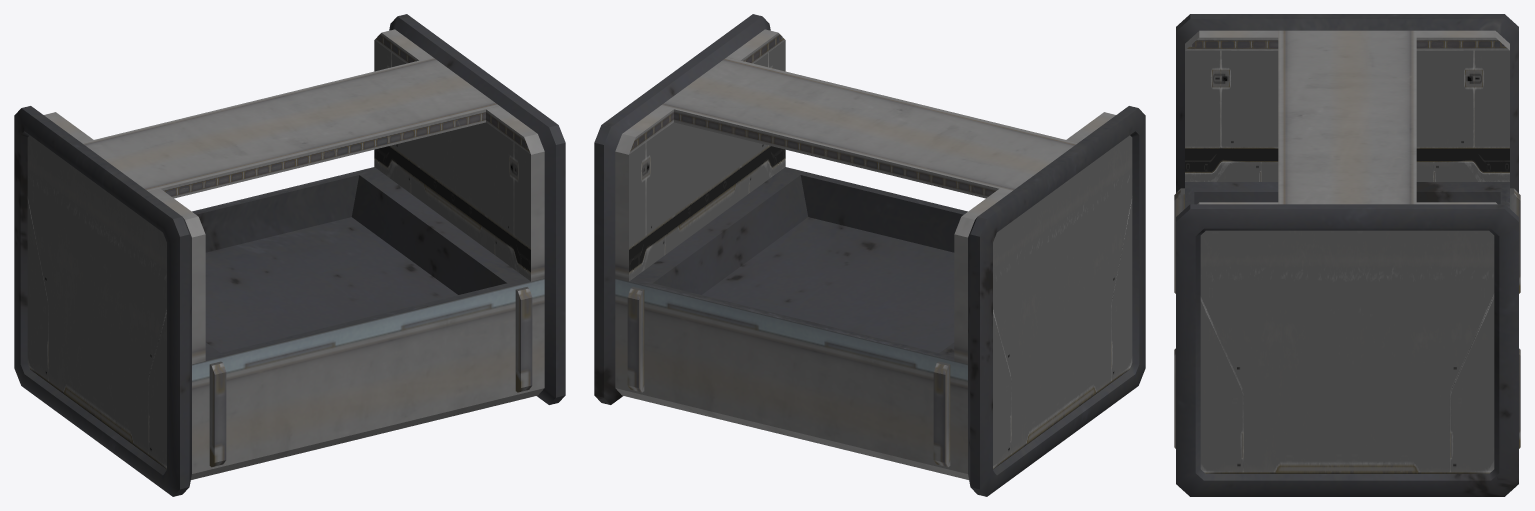
Rendered from Indoor_Full_UV.fbx.
3 views of the same model, side by side, from view 1: azimuth 30°, elevation 25°; view 2: azimuth 150°, elevation 25°; view 3: azimuth 270°, elevation 25° (orthographic). The views are drawn at different scales.
Visible parts, largest first — view 1: Indoor; view 2: Indoor; view 3: Indoor.
Part boxes in pixels (left/top/right/bottom): Indoor: left=14, top=14, right=565, bottom=496; Indoor: left=594, top=14, right=1145, bottom=496; Indoor: left=1174, top=14, right=1520, bottom=496.
Size of the model in its own units: 40.8 by 27.6 by 30.12.
